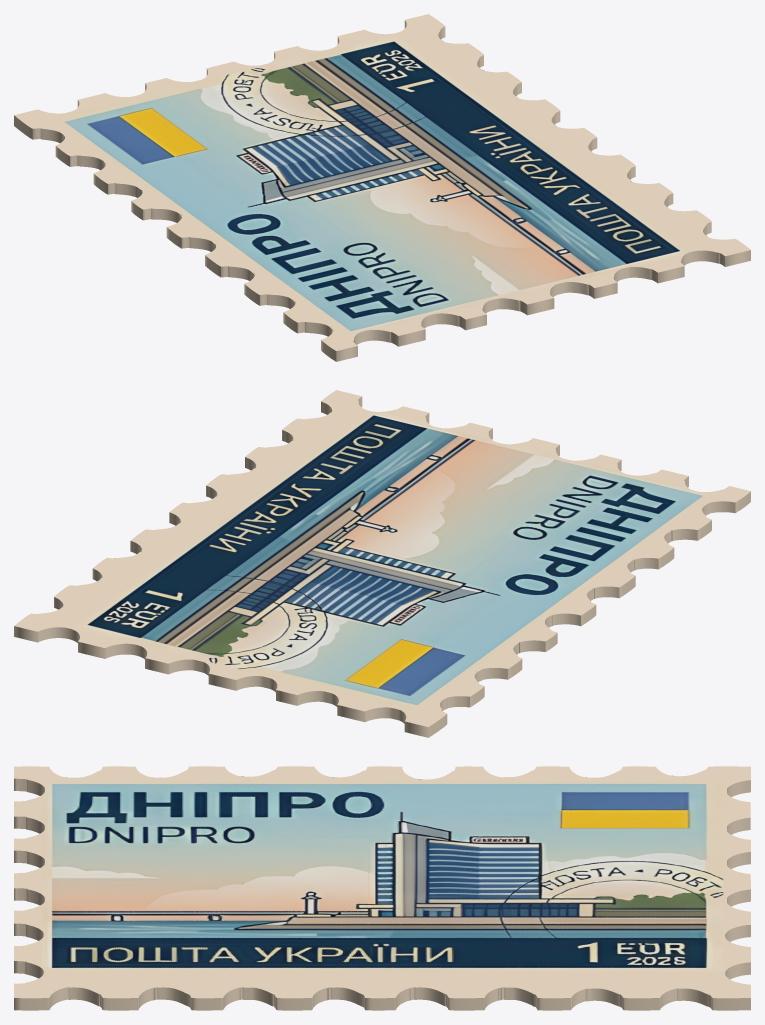
File: Card_Dnipro.glb
3 views of the same model, one above another, from view 1: azimuth 30°, elevation 25°; view 2: azimuth 150°, elevation 25°; view 3: azimuth 270°, elevation 25° (orthographic). The views are drawn at different scales.
Parts seen in each view (by area): view 1: Curve; view 2: Curve; view 3: Curve.
Part boxes in pixels (<box>): Curve: <box>14,14,750,361</box>; Curve: <box>14,390,750,737</box>; Curve: <box>14,766,750,1010</box>.
Size of the model in its own units: 124 by 3.07 by 167.
1 material, 1 textured.
